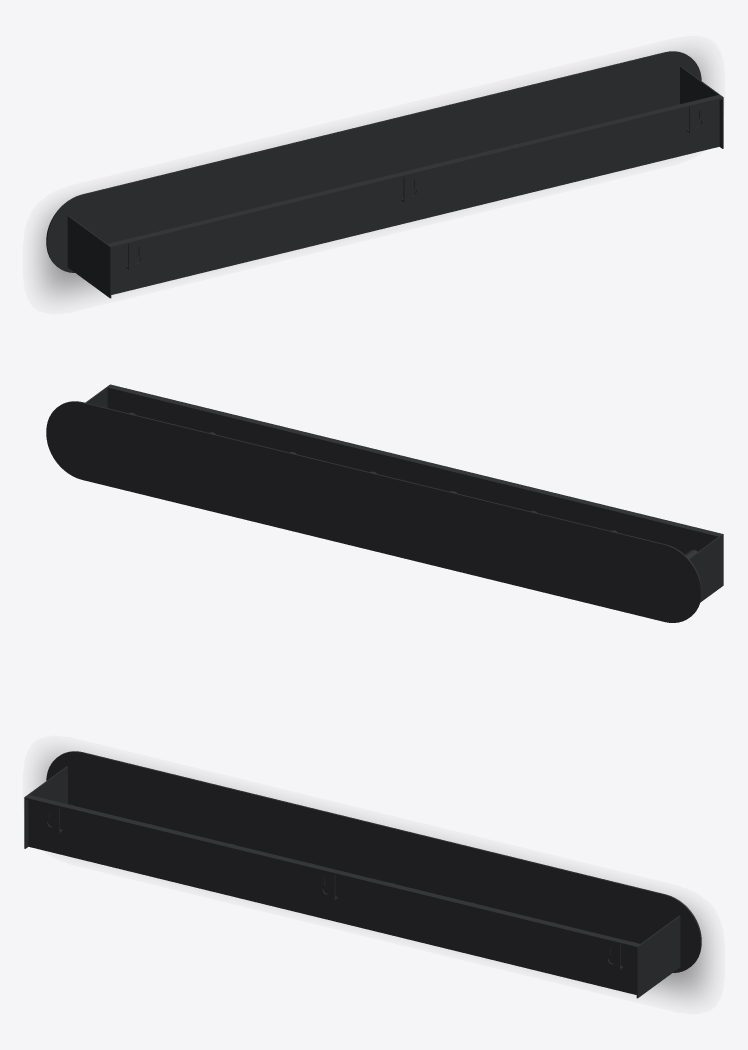
The model's file is round-hook.8e23b56750.ar.glb.
The picture shows the model from 3 angles, top to bottom: view 1: azimuth 30°, elevation 25°; view 2: azimuth 150°, elevation 25°; view 3: azimuth 330°, elevation 25°; orthographic projection.
Parts seen in each view (by area): view 1: NAUO1, object 2; view 2: NAUO1; view 3: NAUO1, object 2.
Part boxes in pixels (bbox=[...]): NAUO1: bbox=[46, 51, 723, 298]; object 2: bbox=[38, 54, 708, 295]; NAUO1: bbox=[46, 384, 723, 622]; NAUO1: bbox=[24, 751, 701, 998]; object 2: bbox=[39, 754, 709, 995].
Bounding box in the file's own units: 0.88 × 0.17 × 0.092.
2 materials, 1 textured.
